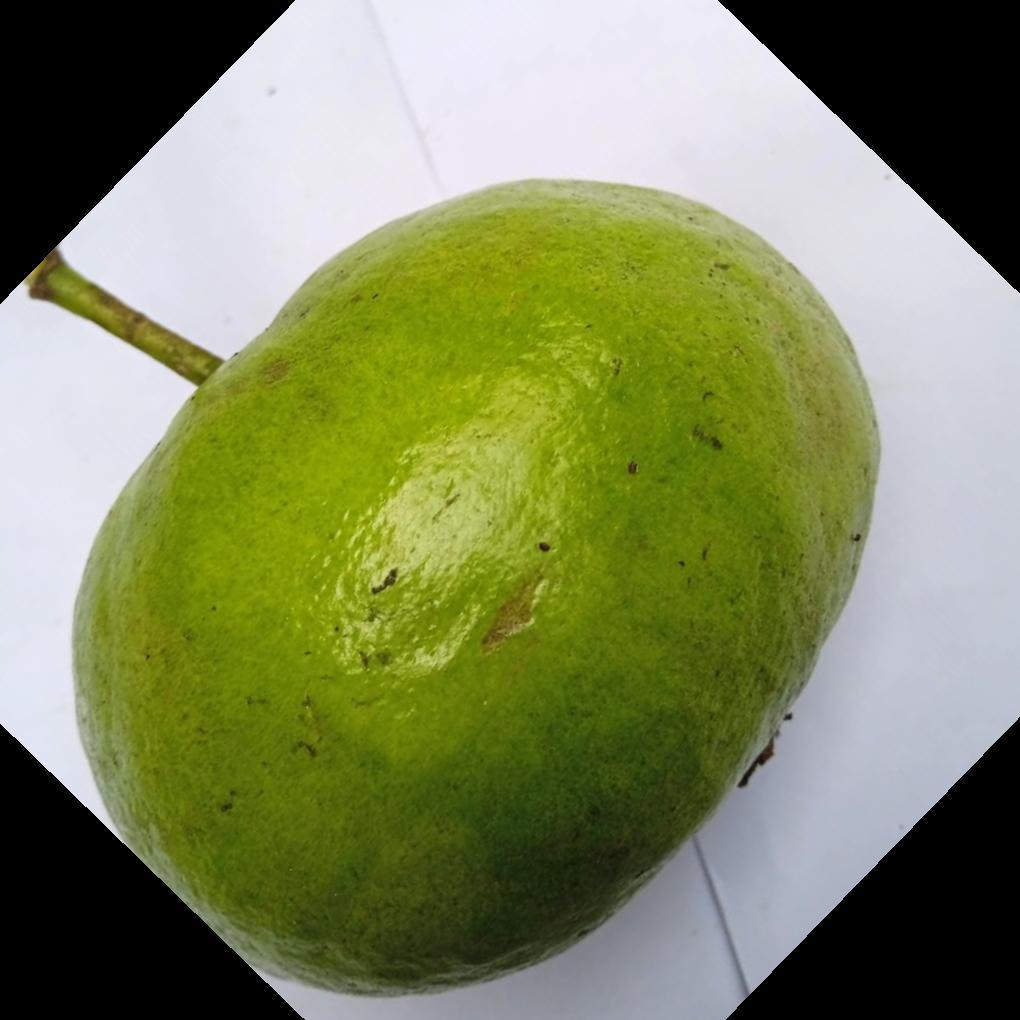FreshGuava: (69, 179, 883, 1001)
